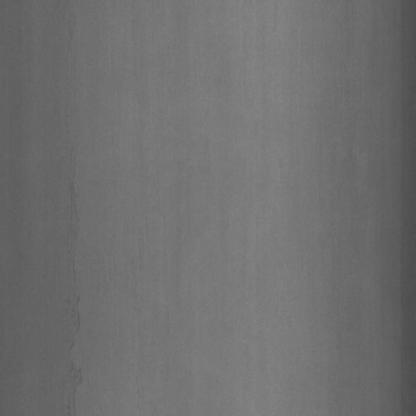silk_spot: (51, 94, 95, 386)
